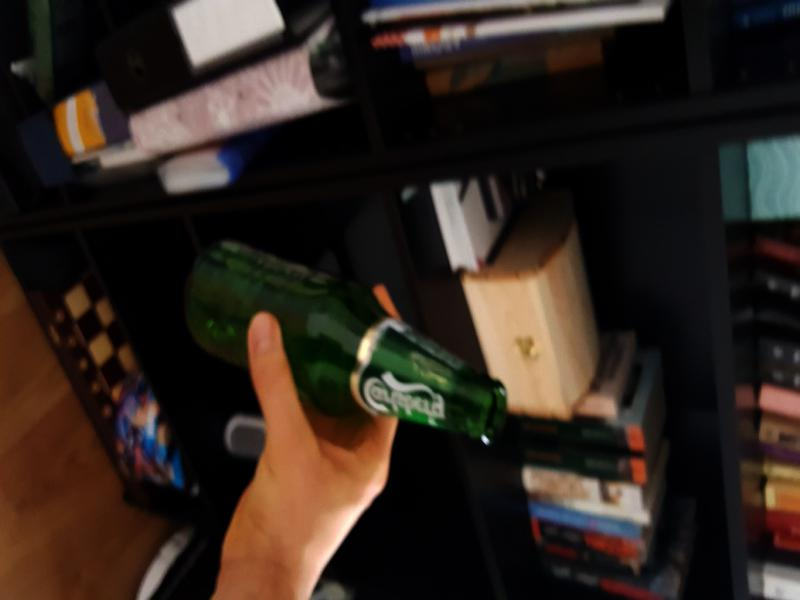Beer: (183, 234, 505, 440)
